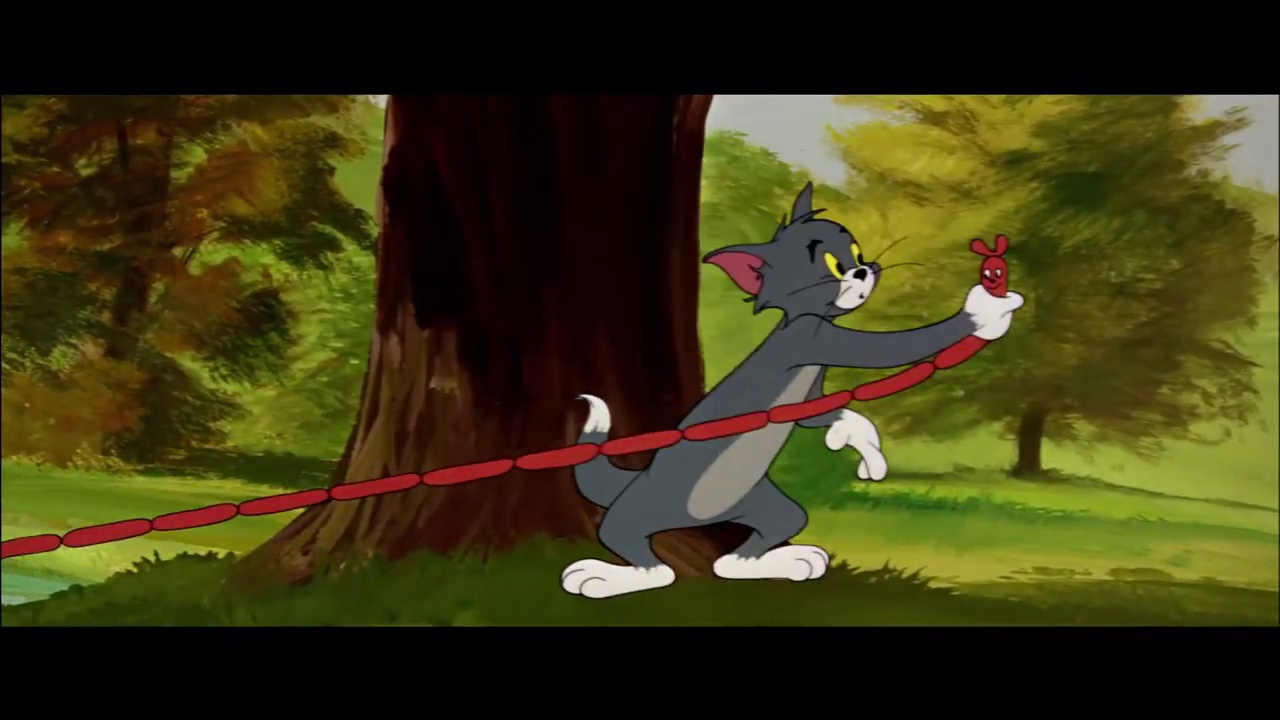tom: (700, 178, 892, 327)
